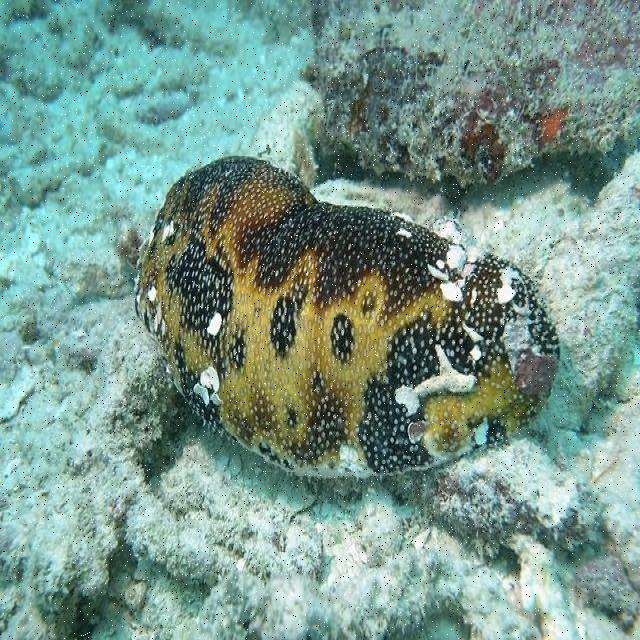reefs: (134, 155, 561, 480)
